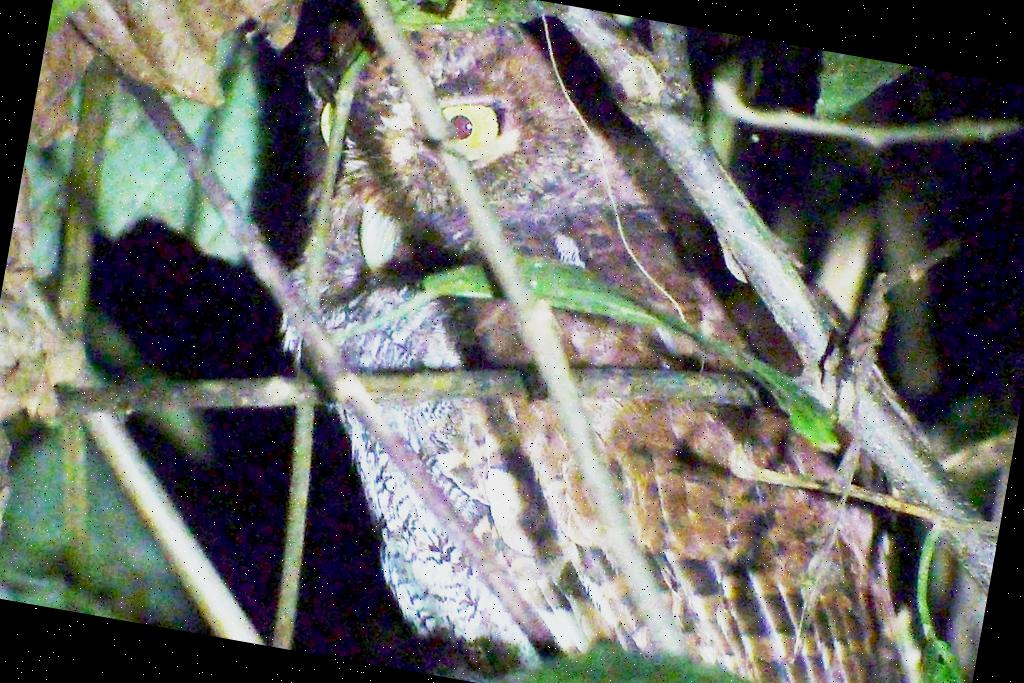Owl: (220, 0, 1003, 683)
